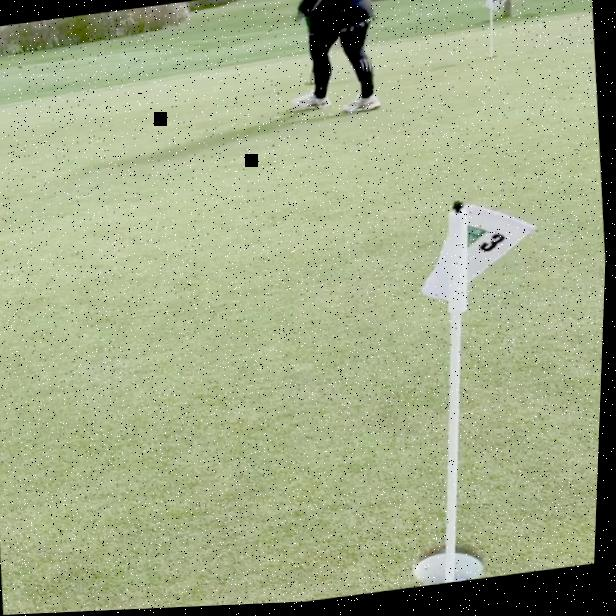ClubHead: (303, 83, 315, 89)
GolfBall: (458, 582, 475, 586)
